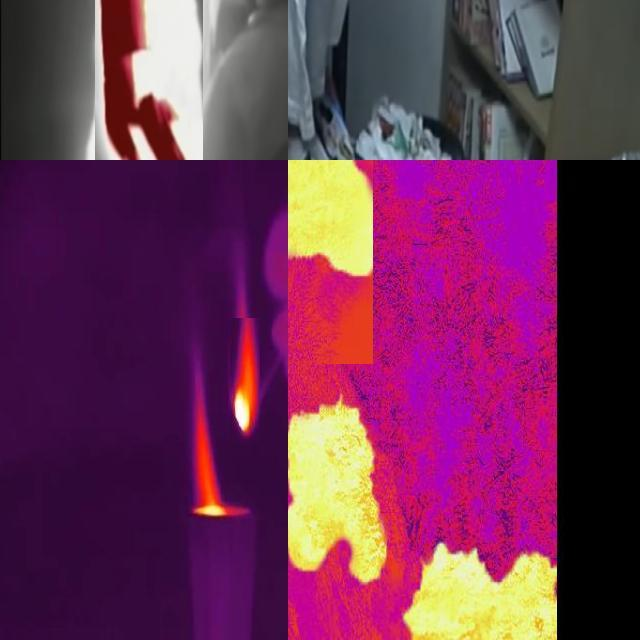fire: (383, 507, 555, 640), (289, 389, 400, 591), (95, 1, 203, 161), (289, 161, 373, 364), (190, 382, 228, 520), (230, 318, 260, 440)
